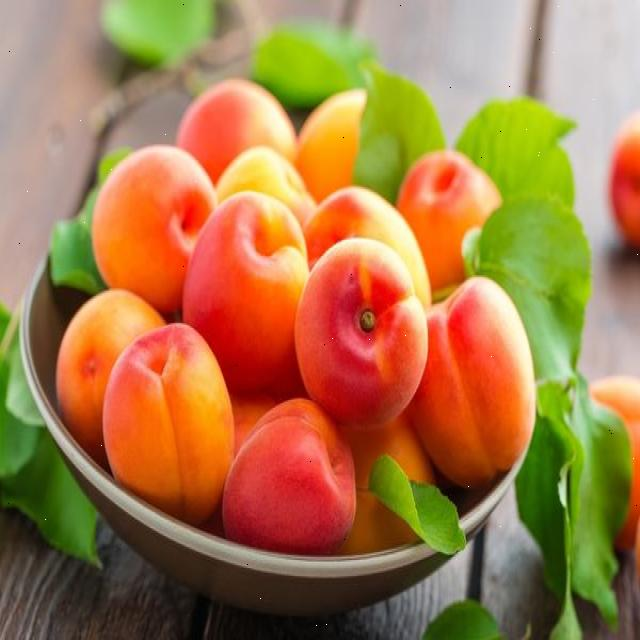kayisi: (74, 131, 505, 482)
yaprak: (524, 350, 624, 640)
